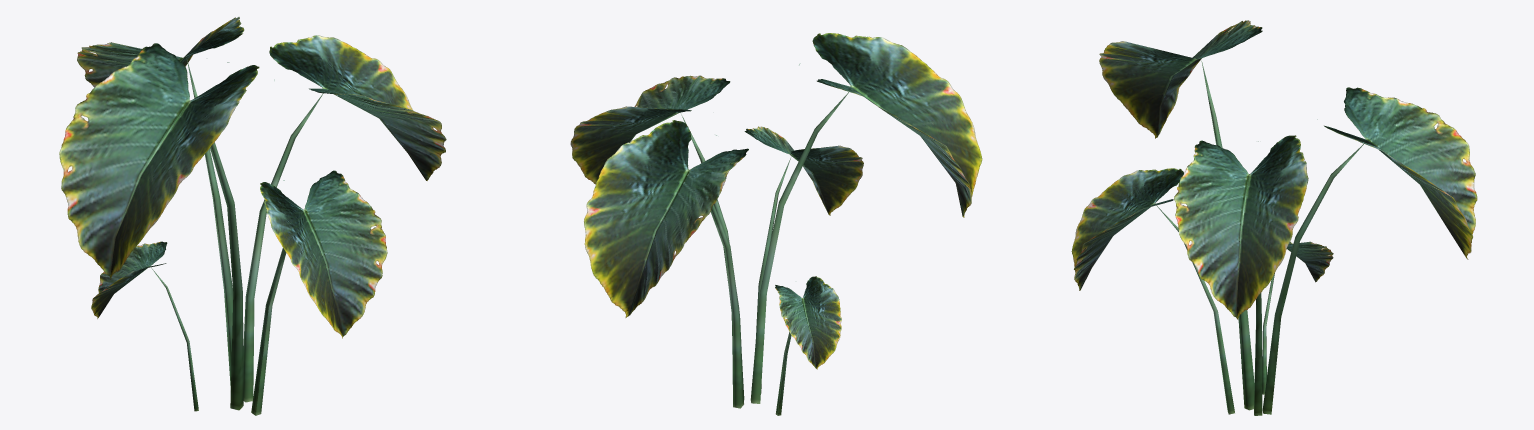
The model's file is m_grass07.fbx.
3 views of the same model, side by side, from view 1: azimuth 30°, elevation 25°; view 2: azimuth 150°, elevation 25°; view 3: azimuth 270°, elevation 25° (orthographic). The views are drawn at different scales.
Parts seen in each view (by area): view 1: m_grass07; view 2: m_grass07; view 3: m_grass07.
Boxes of the visible parts, x1,y1,x2,y2 form: m_grass07: (59, 17, 446, 415); m_grass07: (570, 33, 982, 415); m_grass07: (1071, 20, 1477, 415).
Bounding box in the file's own units: 2.77 × 2.17 × 2.62.
